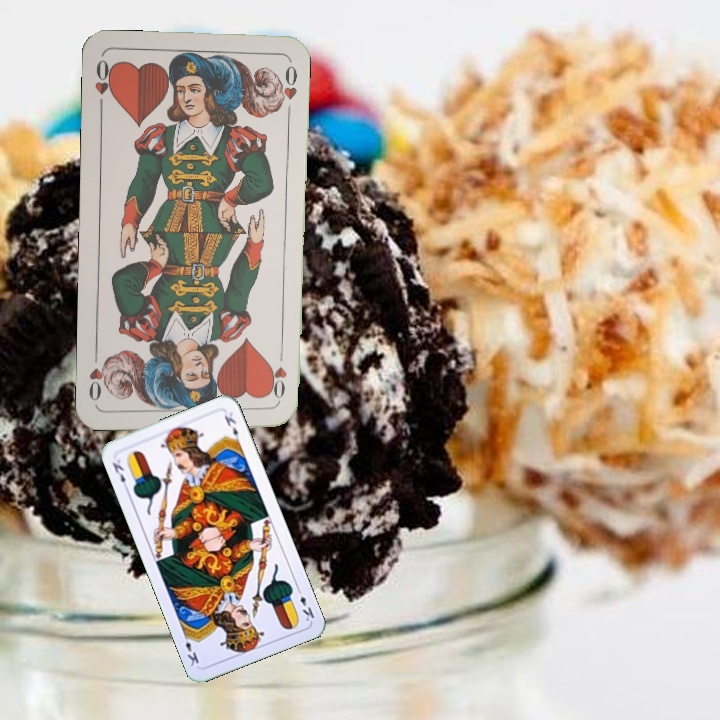EK: (293, 584, 317, 624), (108, 456, 131, 493)
HO: (90, 56, 116, 114), (268, 349, 290, 407)
